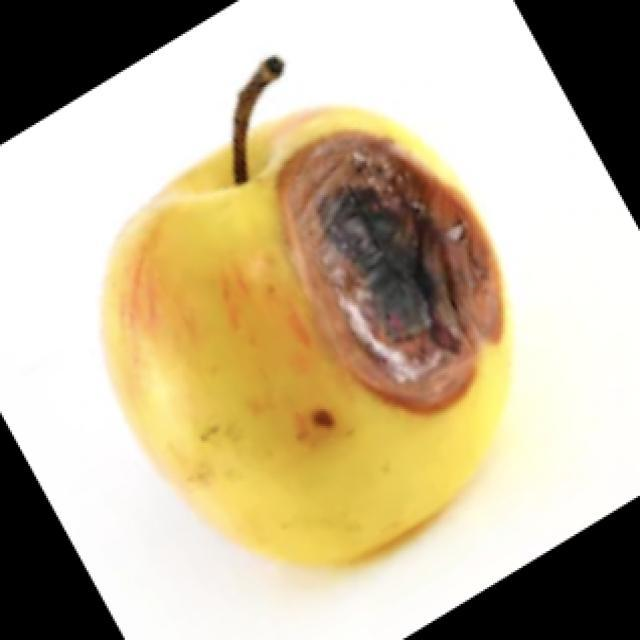Rotten: (150, 111, 510, 562)
